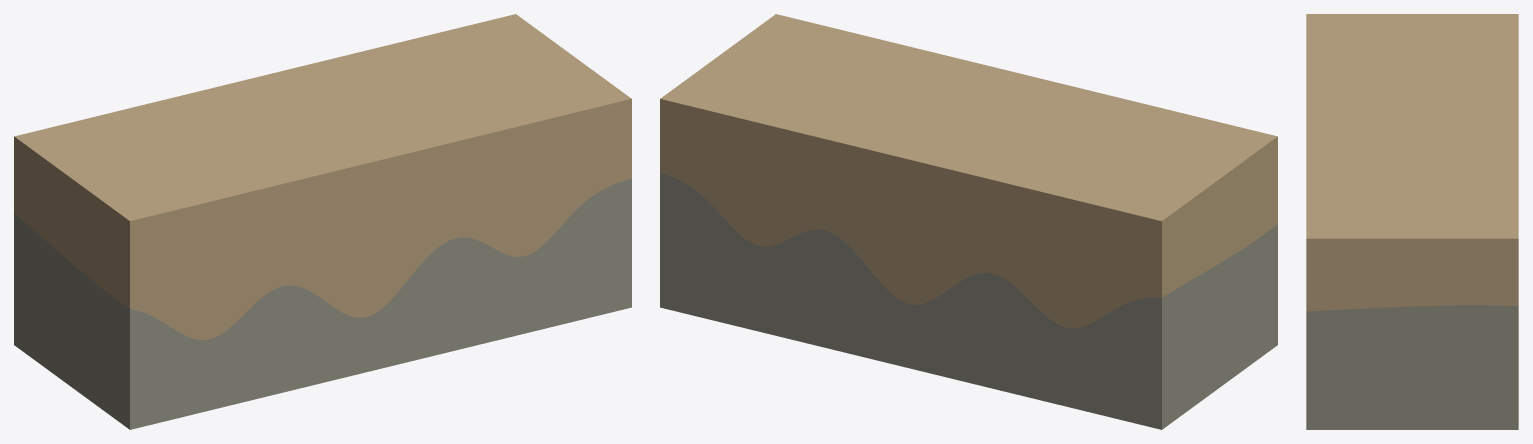
File: load-cast-bedding.glb
The picture shows the model from 3 angles, left to right: view 1: azimuth 30°, elevation 25°; view 2: azimuth 150°, elevation 25°; view 3: azimuth 270°, elevation 25°; orthographic projection. The views are drawn at different scales.
Parts seen in each view (by area): view 1: continuous-upper-sand-layer-with-downward-load-lobes, continuous-lower-soft-layer-around-load-lobes; view 2: continuous-upper-sand-layer-with-downward-load-lobes, continuous-lower-soft-layer-around-load-lobes; view 3: continuous-upper-sand-layer-with-downward-load-lobes, continuous-lower-soft-layer-around-load-lobes.
Part boxes in pixels (x1,y1,x2,y2): continuous-upper-sand-layer-with-downward-load-lobes: (14, 14, 631, 339); continuous-lower-soft-layer-around-load-lobes: (14, 178, 631, 429); continuous-upper-sand-layer-with-downward-load-lobes: (660, 14, 1277, 328); continuous-lower-soft-layer-around-load-lobes: (660, 172, 1277, 429); continuous-upper-sand-layer-with-downward-load-lobes: (1306, 14, 1518, 311); continuous-lower-soft-layer-around-load-lobes: (1306, 305, 1518, 429).
Size of the model in its own units: 0.8 by 0.318 by 0.32.
